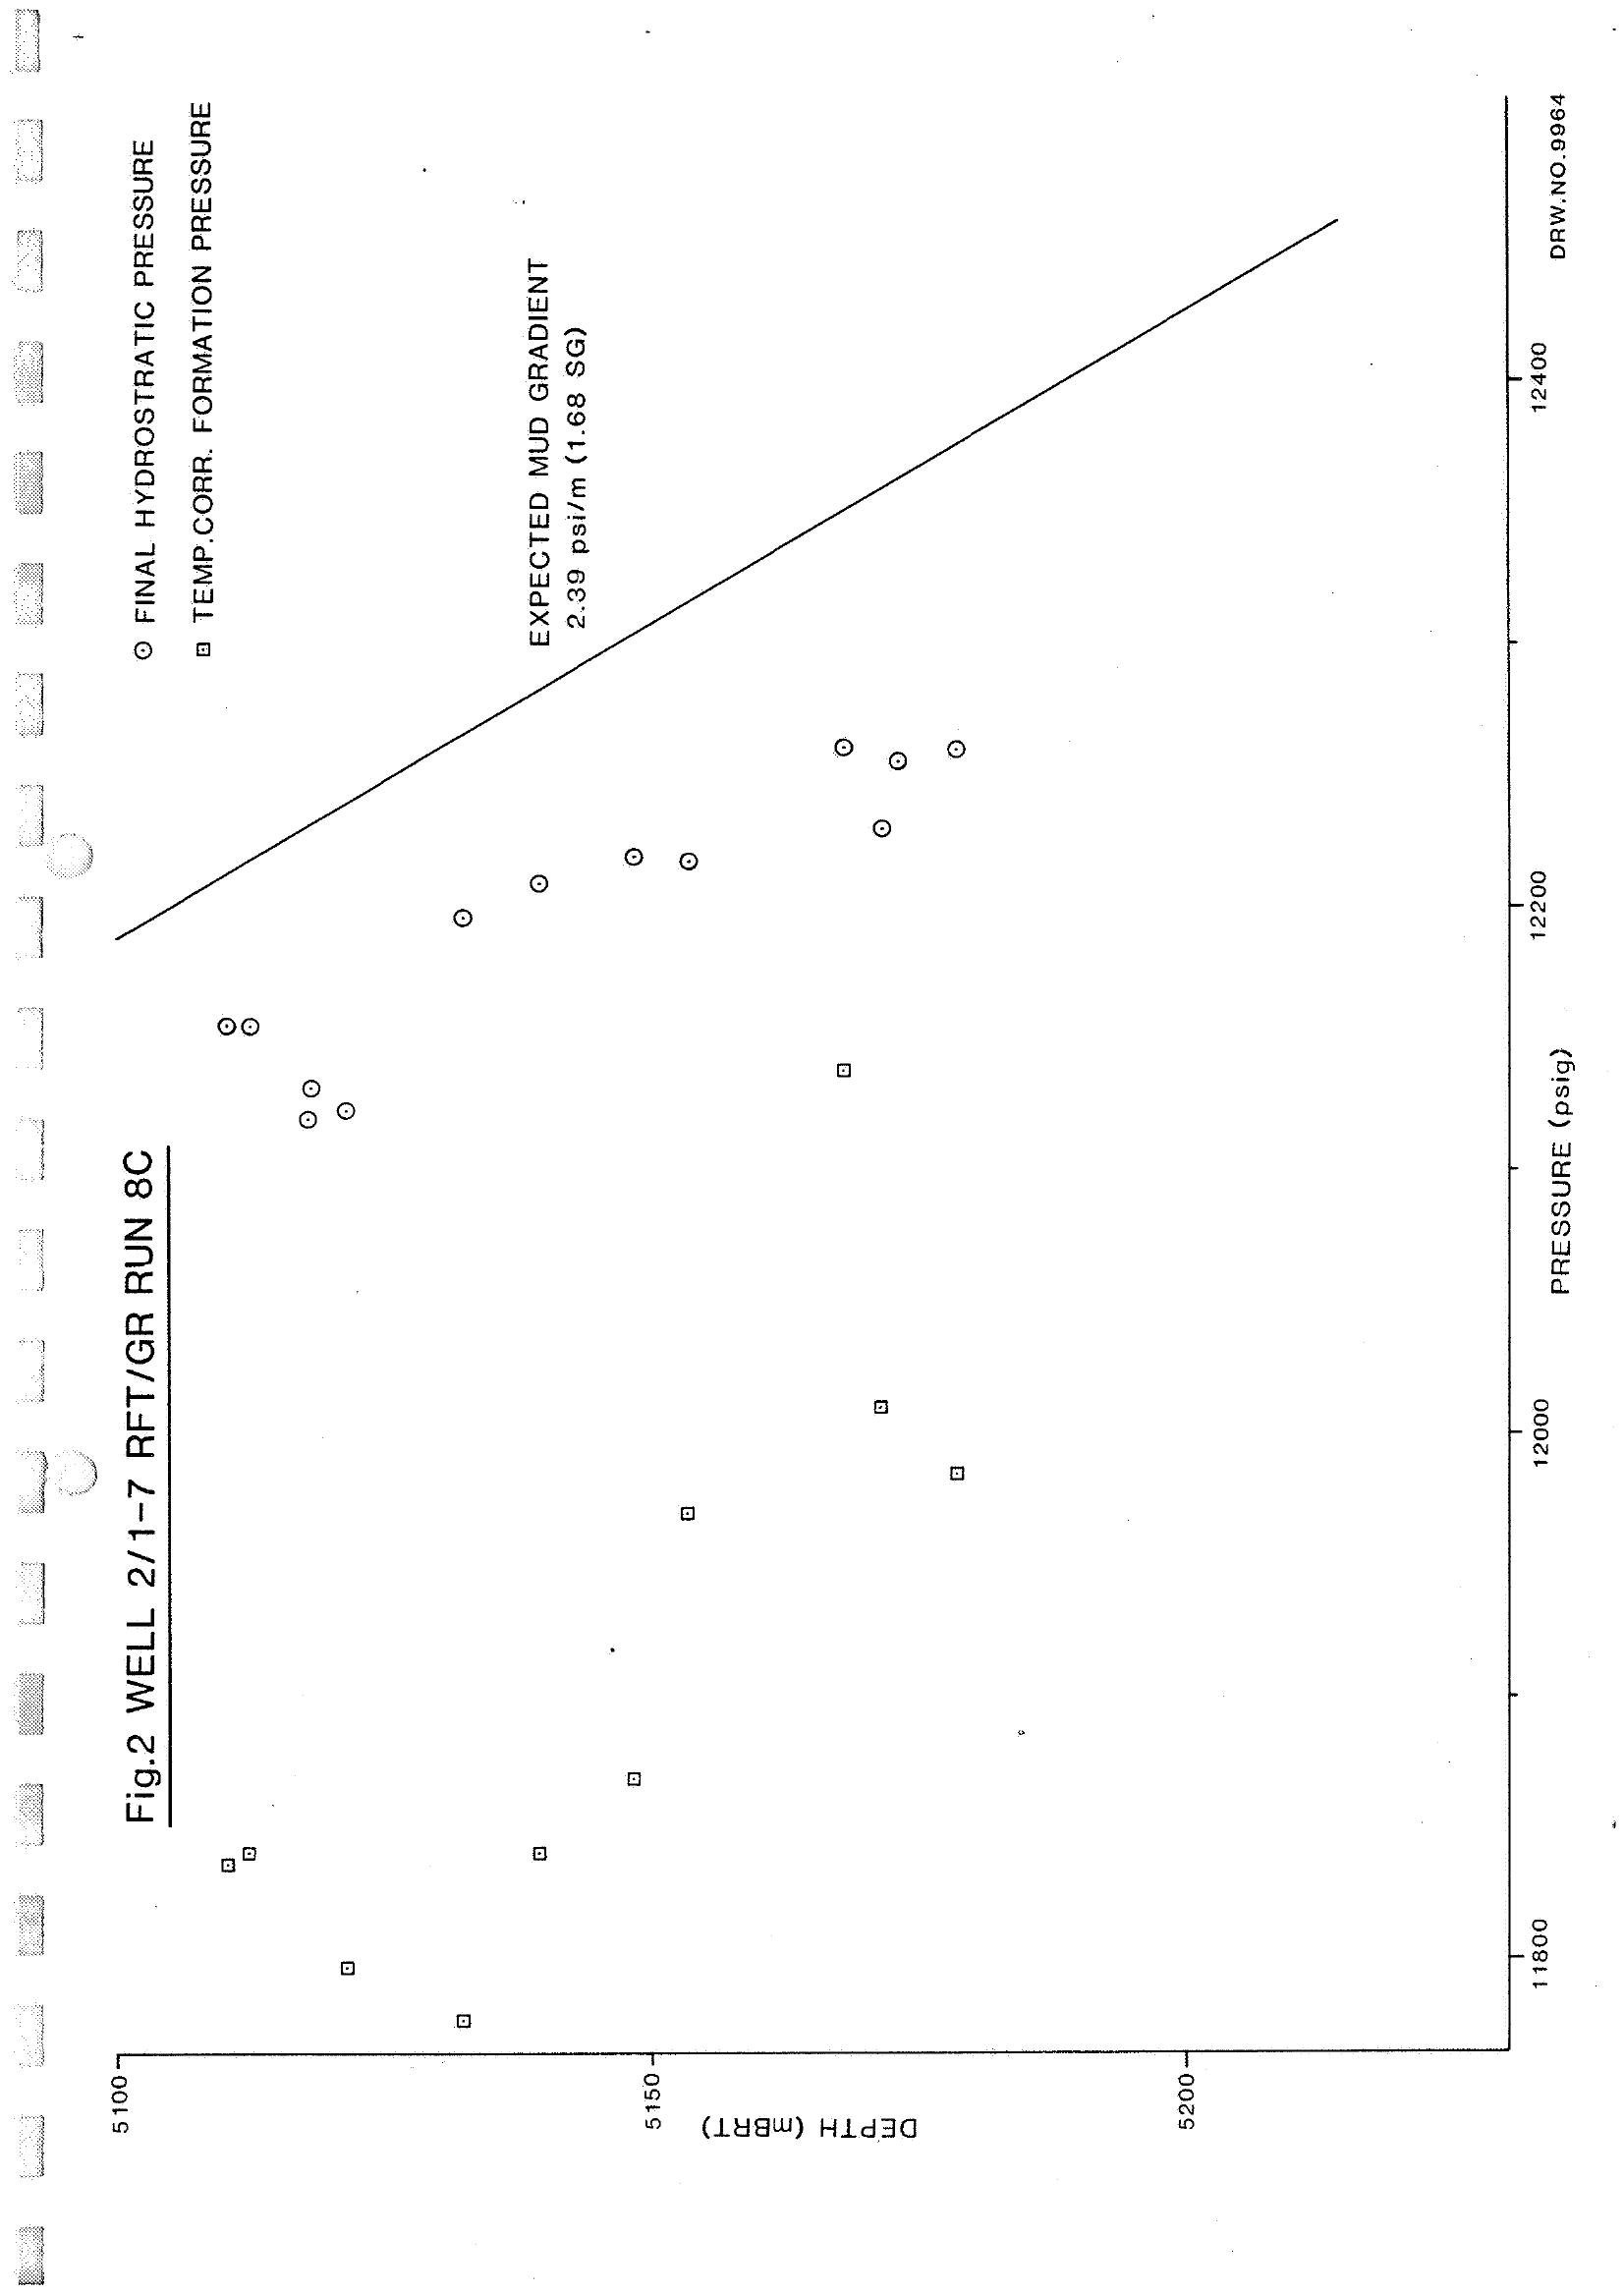graph: (97, 44, 1584, 2210)
